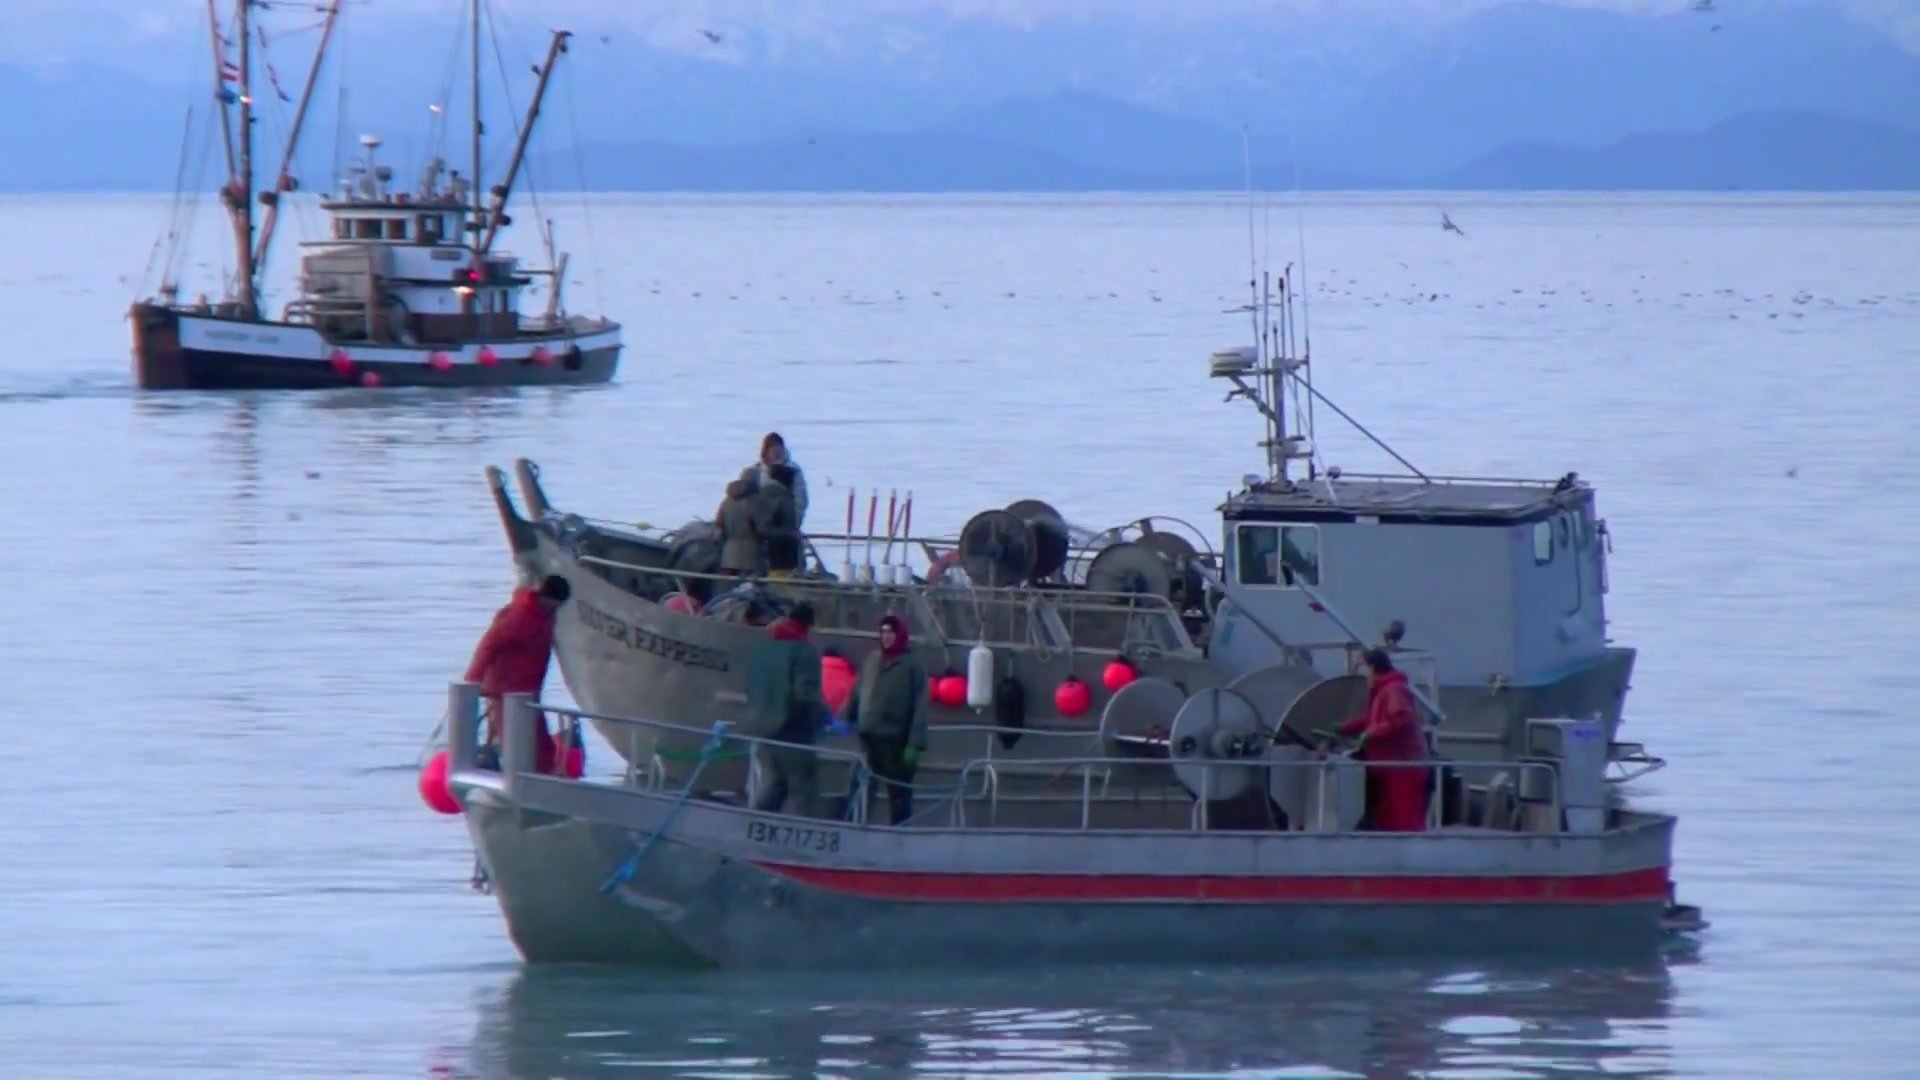CommonShip: (467, 429, 1662, 812), (418, 615, 1687, 964), (107, 146, 665, 396)
